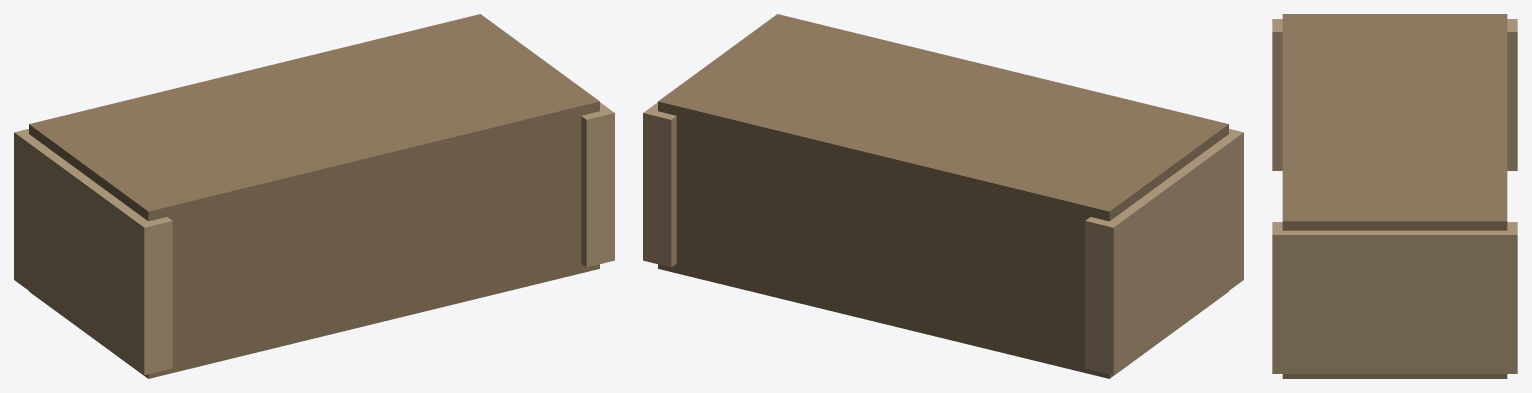
Rendered from fallen_log.gltf.
3 renders of one model, left to right at view 1: azimuth 30°, elevation 25°; view 2: azimuth 150°, elevation 25°; view 3: azimuth 270°, elevation 25°, orthographic. The views are drawn at different scales.
Parts seen in each view (by area): view 1: fallen_log; view 2: fallen_log; view 3: fallen_log.
Boxes of the visible parts, x1,y1,x2,y2 form: fallen_log: (14,14,614,378); fallen_log: (643,14,1243,378); fallen_log: (1272,14,1517,378).
Size of the model in its own units: 1 by 0.34 by 0.48.
